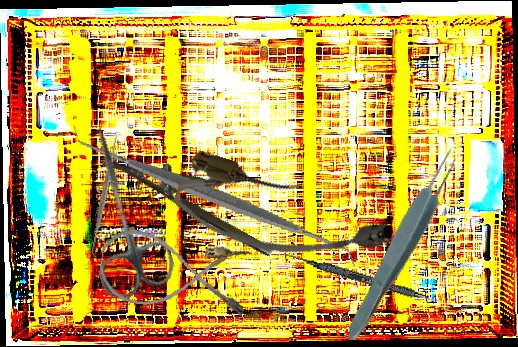Cannula: (167, 147, 399, 287), (95, 225, 253, 321)
Iris Scissors: (59, 116, 180, 303)
Needle Holder: (101, 130, 287, 260)
Spatula Surgical: (72, 55, 357, 339), (282, 251, 460, 311), (84, 132, 125, 258)
Tissue Forceps: (338, 143, 468, 347)
